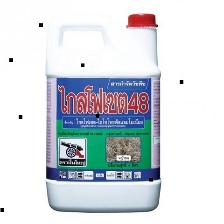insecticide: (33, 5, 167, 214)
